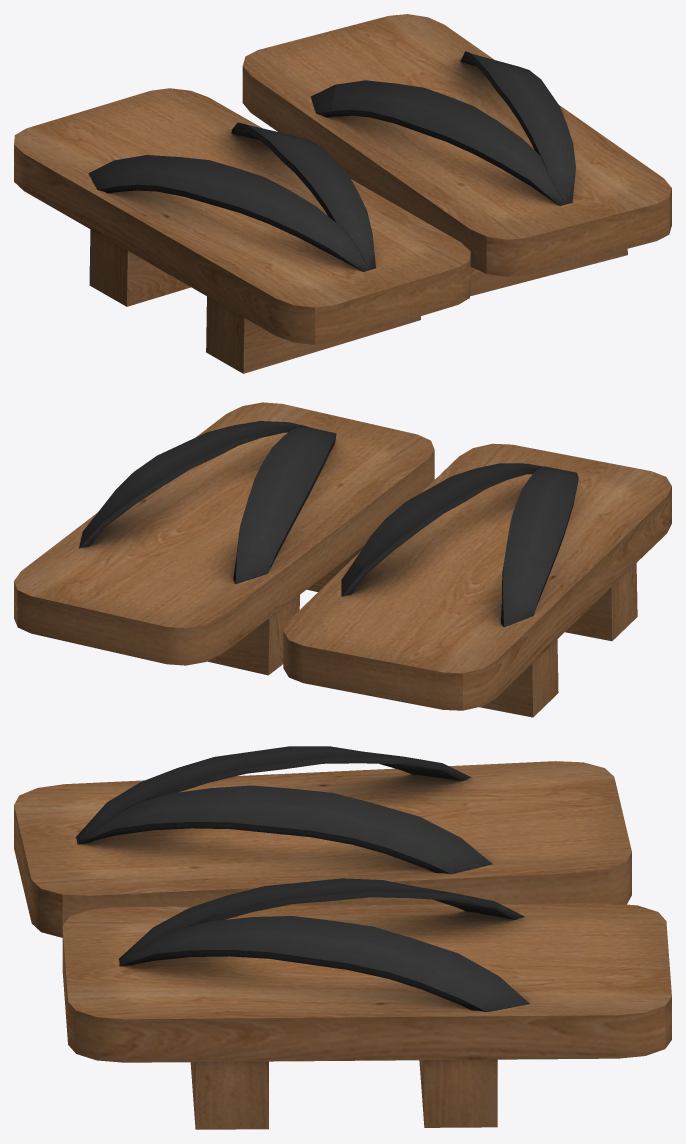
The model's file is Clogs.b.fbx.
The picture shows the model from 3 angles, top to bottom: view 1: azimuth 30°, elevation 25°; view 2: azimuth 150°, elevation 25°; view 3: azimuth 270°, elevation 25°; orthographic projection. The views are drawn at different scales.
Visible parts, largest first — view 1: Group 0; view 2: Group 0; view 3: Group 0.
Boxes of the visible parts, x1=… form: Group 0: x1=14, y1=14, x2=671, y2=373; Group 0: x1=14, y1=402, x2=671, y2=717; Group 0: x1=14, y1=746, x2=671, y2=1129.
Bounding box in the file's own units: 26.62 × 8.15 × 28.67.
1 material, 1 textured.
